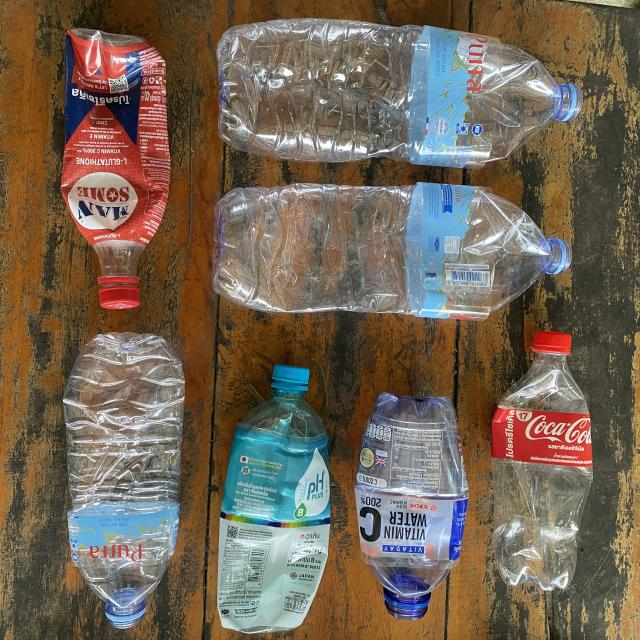plastik: (216, 19, 582, 169), (212, 182, 571, 320), (64, 332, 185, 629), (61, 29, 170, 309), (218, 364, 330, 632), (492, 331, 592, 590), (355, 392, 468, 620)
